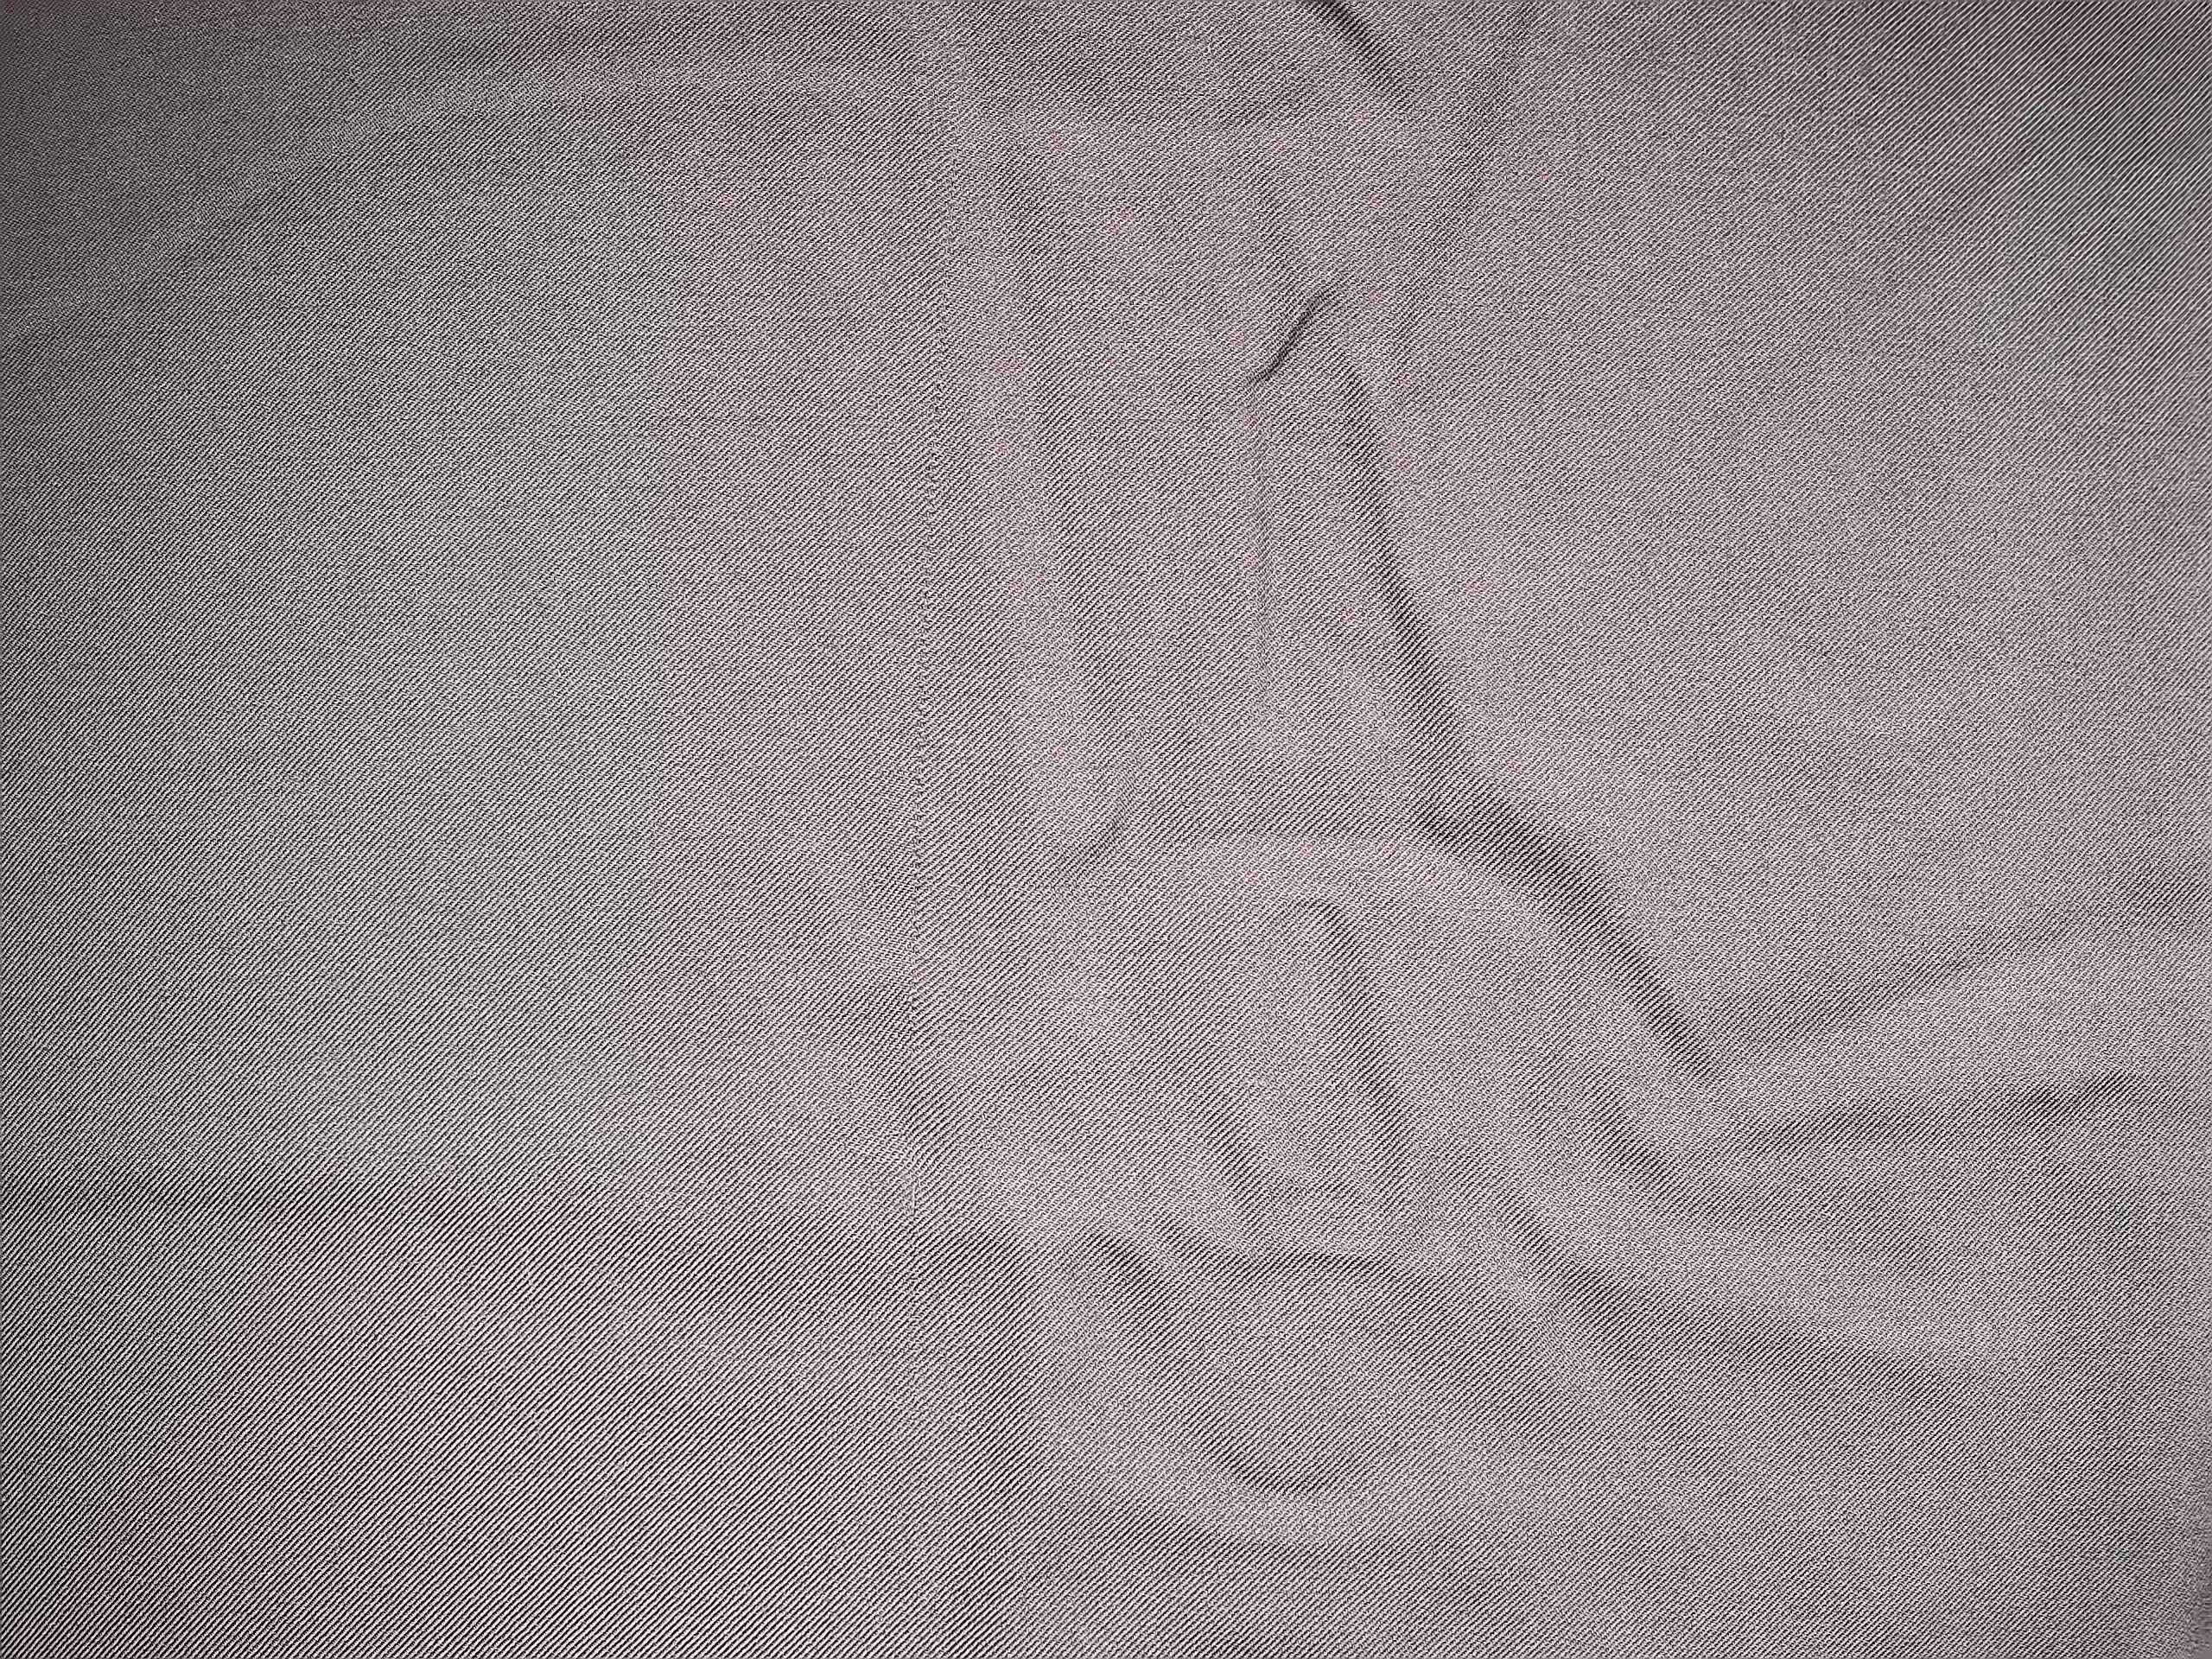hanging-warp: (885, 59, 963, 1248)
